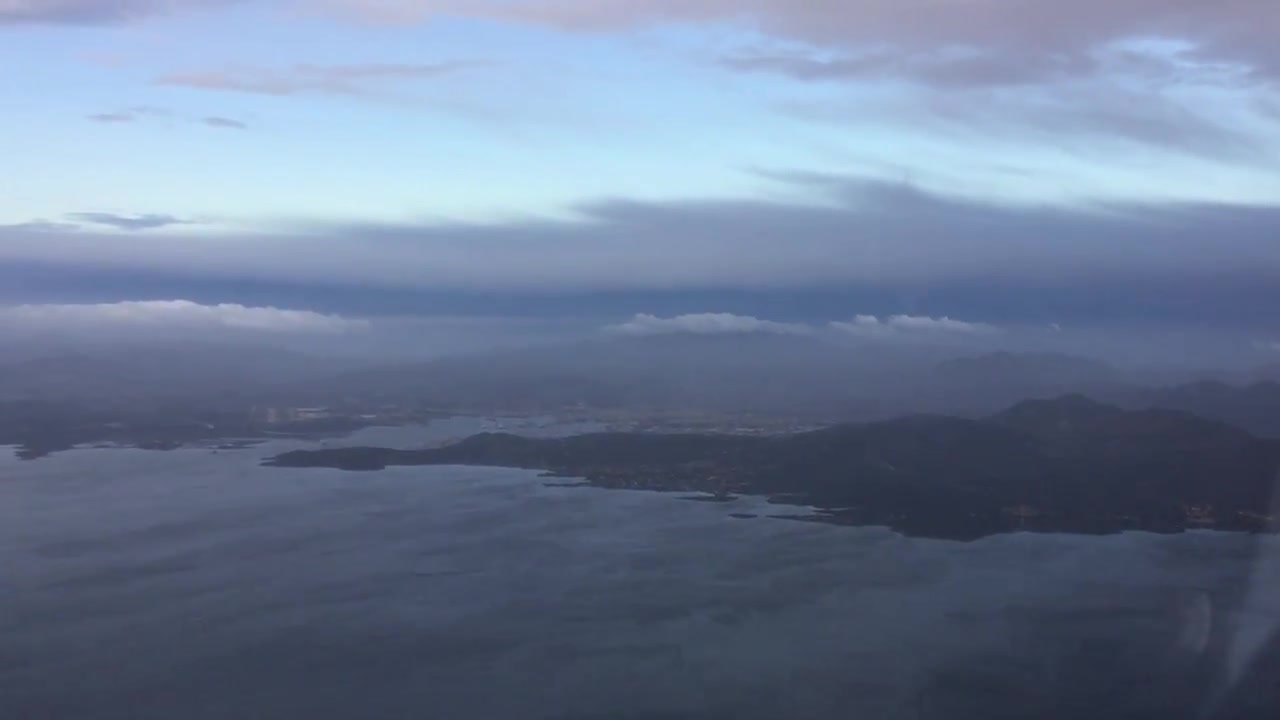runway: (266, 406, 276, 426)
